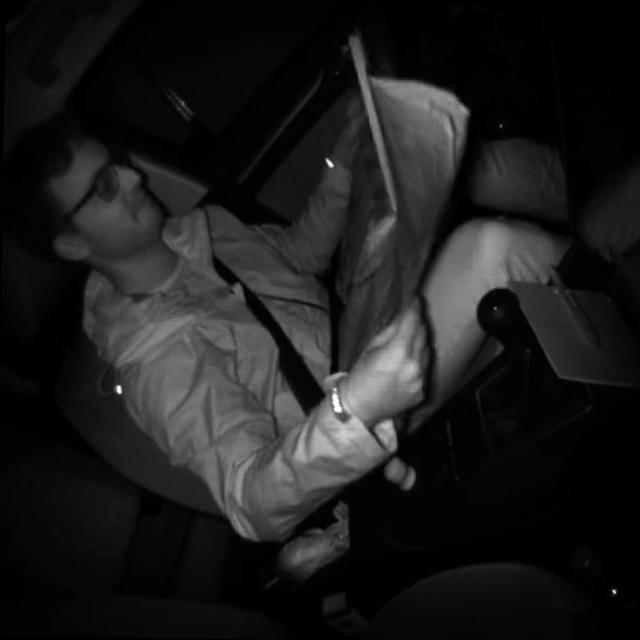pen: (544, 262, 604, 354)
